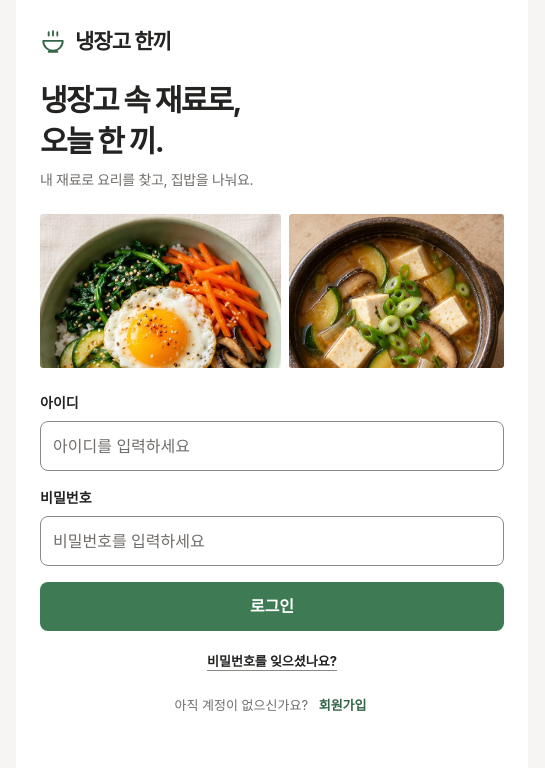
Scenario: 로그인 화면 › 응답이 느리면 서버를 깨우는 중이라고 알린다
The width and height of the screenshot is (545, 768).
In the field labelled "아이디": point(272, 446) [40, 421, 504, 471], type "jisu"
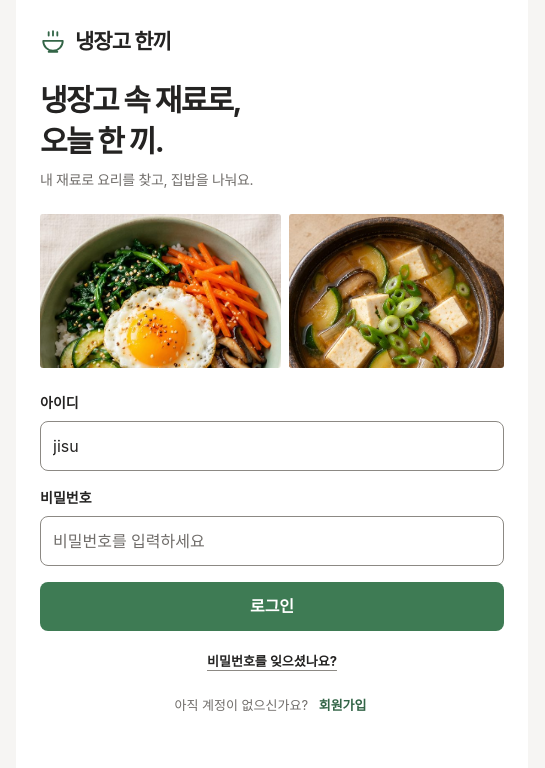
In the password field labelled "비밀번호": point(272, 541) [40, 516, 504, 566], type "pw123456"
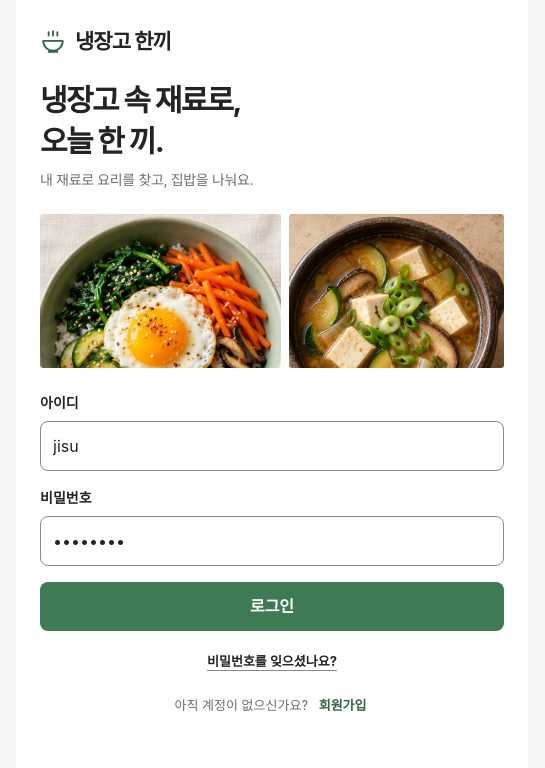
Click the button "로그인": point(272, 606) [40, 582, 504, 631]
Wait 3500 ms
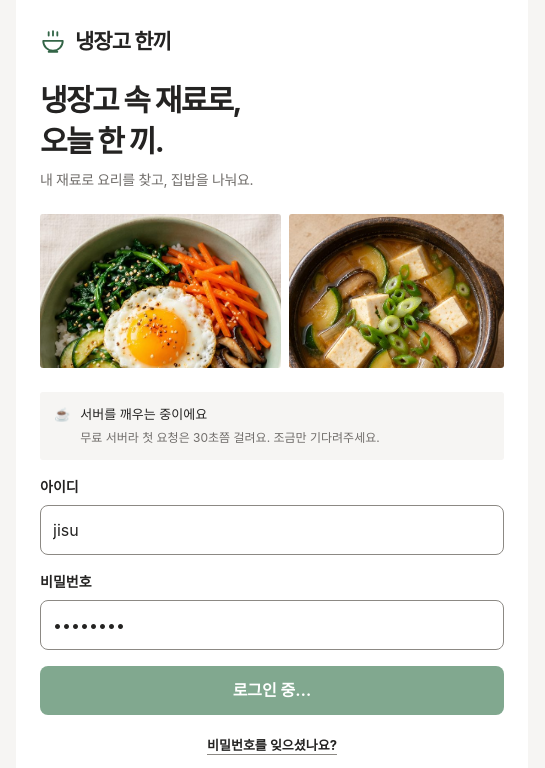
Check: the message shows "서버를 깨우는 중", box [80, 406, 207, 422]
